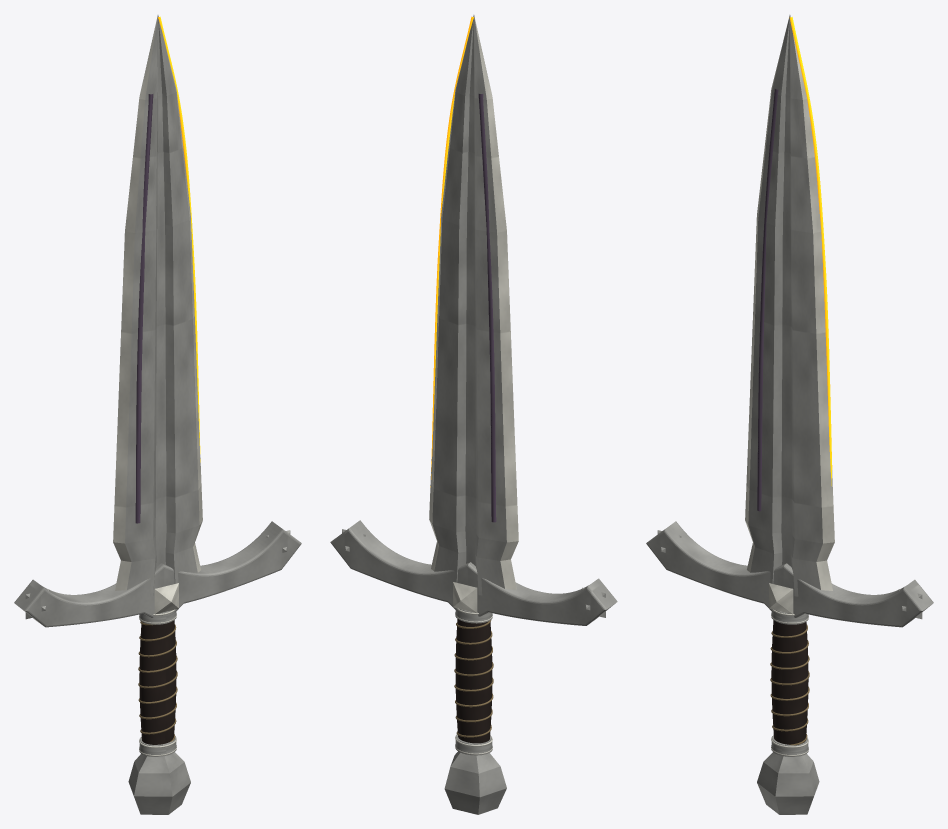
File: cinderwake_sword.glb
3 views of the same model, side by side, from view 1: azimuth 30°, elevation 25°; view 2: azimuth 150°, elevation 25°; view 3: azimuth 330°, elevation 25° (orthographic).
Parts seen in each view (by area): view 1: cinderwake_sword-forged-body, cinderwake_sword-honed-edge, cinderwake_sword-grip-hide, violet-gold-titanium-temper, permanent-orange-hot-edge, cinderwake_sword-wrap-overlap; view 2: cinderwake_sword-forged-body, cinderwake_sword-honed-edge, cinderwake_sword-grip-hide, violet-gold-titanium-temper, permanent-orange-hot-edge, cinderwake_sword-wrap-overlap; view 3: cinderwake_sword-forged-body, cinderwake_sword-honed-edge, cinderwake_sword-grip-hide, violet-gold-titanium-temper, permanent-orange-hot-edge, cinderwake_sword-wrap-overlap.
Part boxes in pixels (box(x1,y1,x2,y2)): cinderwake_sword-forged-body: box(14, 15, 301, 814); cinderwake_sword-honed-edge: box(113, 16, 202, 756); cinderwake_sword-grip-hide: box(139, 620, 176, 744); violet-gold-titanium-temper: box(135, 94, 153, 523); permanent-orange-hot-edge: box(158, 16, 200, 462); cinderwake_sword-wrap-overlap: box(138, 621, 177, 741); cinderwake_sword-forged-body: box(330, 15, 617, 814); cinderwake_sword-honed-edge: box(429, 16, 518, 754); cinderwake_sword-grip-hide: box(455, 619, 492, 743); violet-gold-titanium-temper: box(478, 94, 496, 522); permanent-orange-hot-edge: box(430, 16, 473, 487); cinderwake_sword-wrap-overlap: box(454, 620, 493, 737); cinderwake_sword-forged-body: box(646, 15, 933, 814); cinderwake_sword-honed-edge: box(745, 16, 834, 756); cinderwake_sword-grip-hide: box(771, 620, 808, 744); violet-gold-titanium-temper: box(757, 89, 778, 511); permanent-orange-hot-edge: box(789, 17, 832, 485); cinderwake_sword-wrap-overlap: box(770, 624, 809, 745).
Size of the model in its own units: 0.5613 by 1.55 by 0.098.
6 materials, 5 textured.
